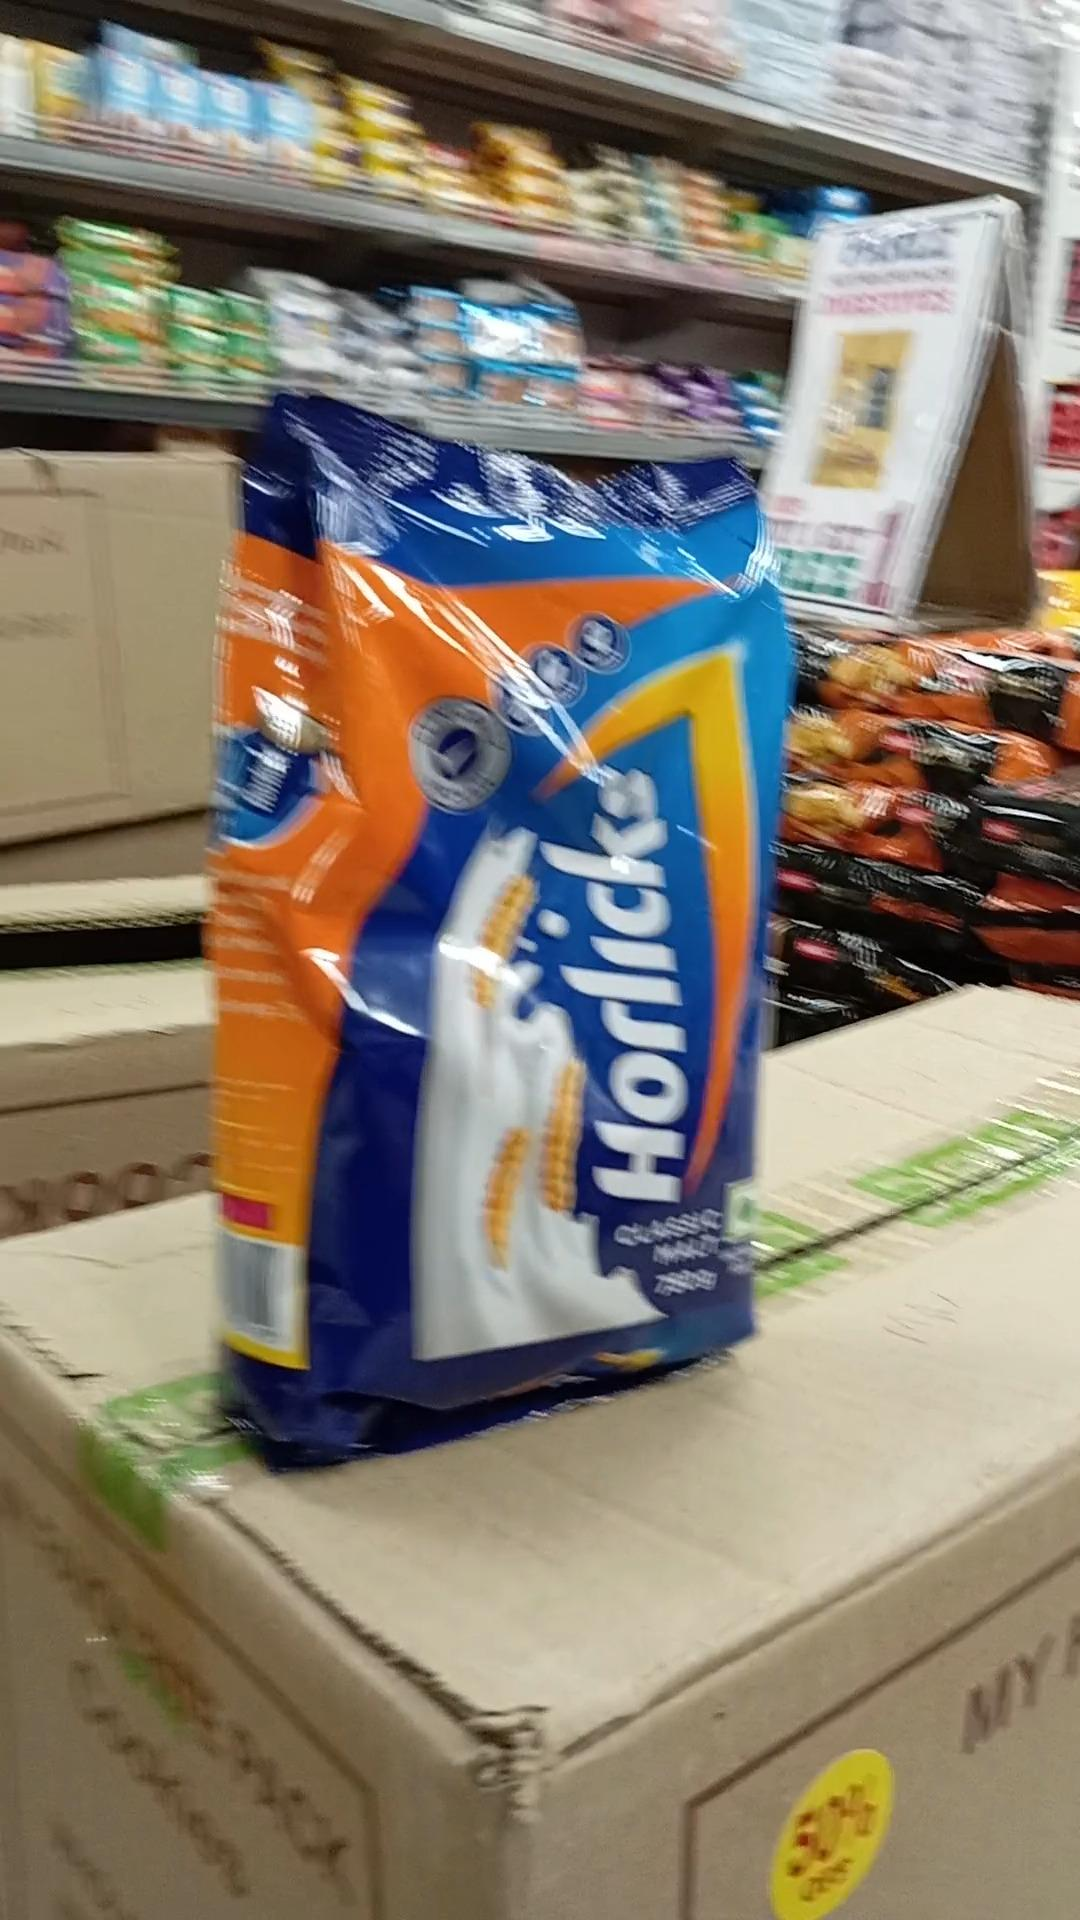HORLICK_CLASSIC_MALT_750_G_POUCH: (231, 389, 774, 1378)
